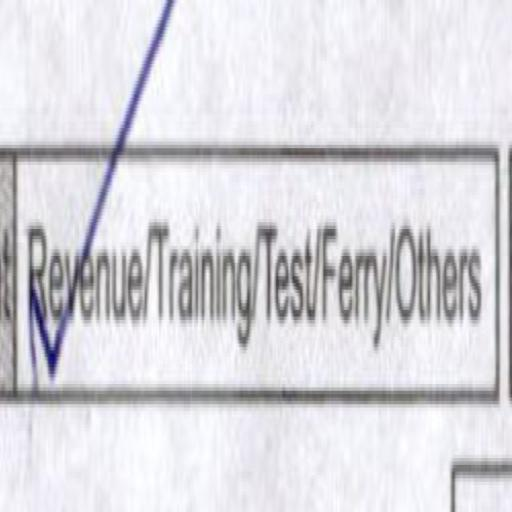check: (18, 148, 148, 393)
